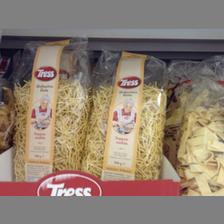Nudeln: (82, 45, 168, 179), (10, 37, 90, 180), (176, 92, 224, 196)
